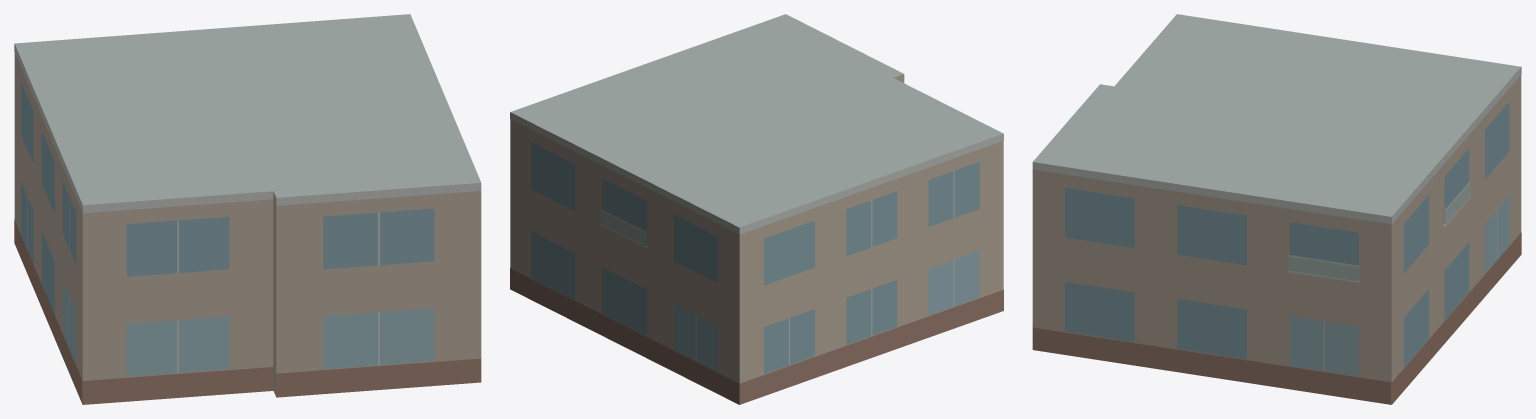
The model's file is survey-upis-32668397.glb.
The picture shows the model from 3 angles, left to right: view 1: azimuth 30°, elevation 25°; view 2: azimuth 150°, elevation 25°; view 3: azimuth 270°, elevation 25°; orthographic projection. The views are drawn at different scales.
Visible parts, largest first — view 1: survey-upis-32668397.tmp; view 2: survey-upis-32668397.tmp; view 3: survey-upis-32668397.tmp.
Boxes of the visible parts, left/top/right/bottom form: survey-upis-32668397.tmp: left=14, top=14, right=481, bottom=404; survey-upis-32668397.tmp: left=510, top=14, right=1003, bottom=404; survey-upis-32668397.tmp: left=1032, top=14, right=1521, bottom=404.
Bounding box in the file's own units: 14.14 × 6.1 × 14.39.
